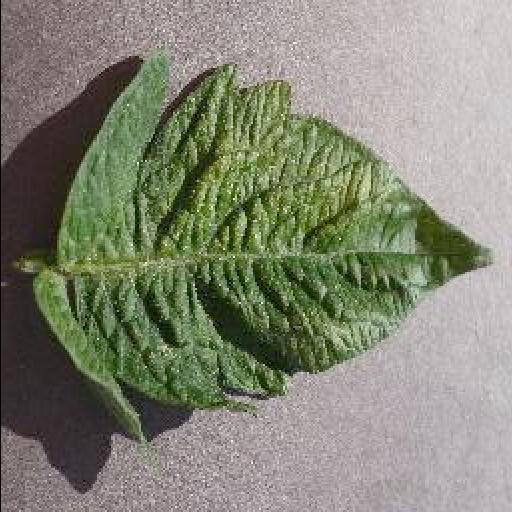disease_tomato: (32, 52, 494, 442)
